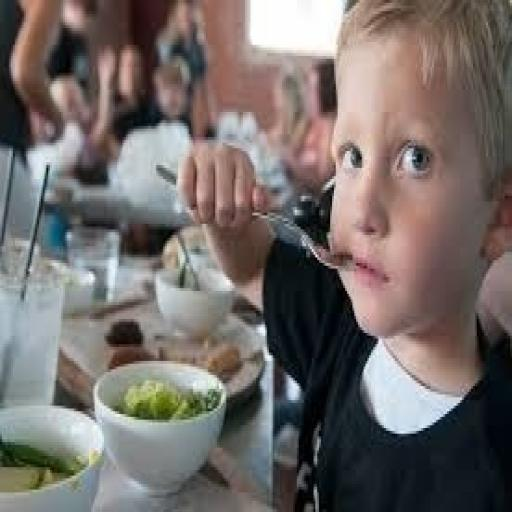eating: (176, 0, 510, 509)
